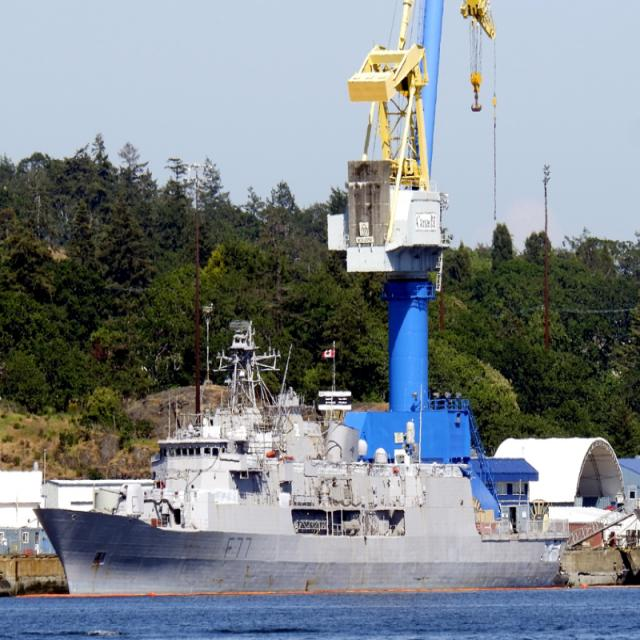Fragata: (28, 299, 572, 606)
